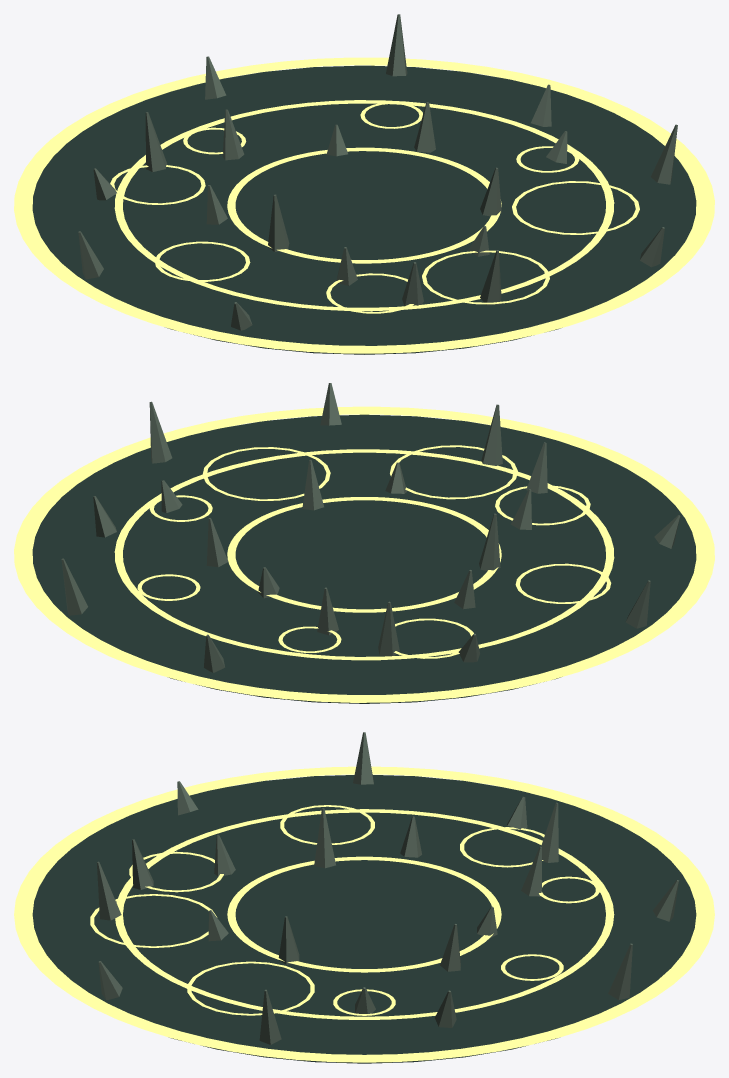
File: FX_BOSS_PoisonPool.glb
The picture shows the model from 3 angles, top to bottom: view 1: azimuth 30°, elevation 25°; view 2: azimuth 150°, elevation 25°; view 3: azimuth 270°, elevation 25°; orthographic projection.
Visible parts, largest first — view 1: FX_BOSS_PoisonPool_Release, FX_BOSS_PoisonPool_Debris; view 2: FX_BOSS_PoisonPool_Release, FX_BOSS_PoisonPool_Debris; view 3: FX_BOSS_PoisonPool_Release, FX_BOSS_PoisonPool_Debris.
Part boxes in pixels (box(x1,y1,x2,y2)): FX_BOSS_PoisonPool_Release: box(14, 57, 714, 354); FX_BOSS_PoisonPool_Debris: box(78, 14, 677, 330); FX_BOSS_PoisonPool_Release: box(14, 406, 714, 703); FX_BOSS_PoisonPool_Debris: box(61, 383, 680, 672); FX_BOSS_PoisonPool_Release: box(14, 766, 714, 1063); FX_BOSS_PoisonPool_Debris: box(97, 732, 678, 1044).
Size of what is drawn, in the model's own units: 0.00904 by 0.000831 by 0.00904.
